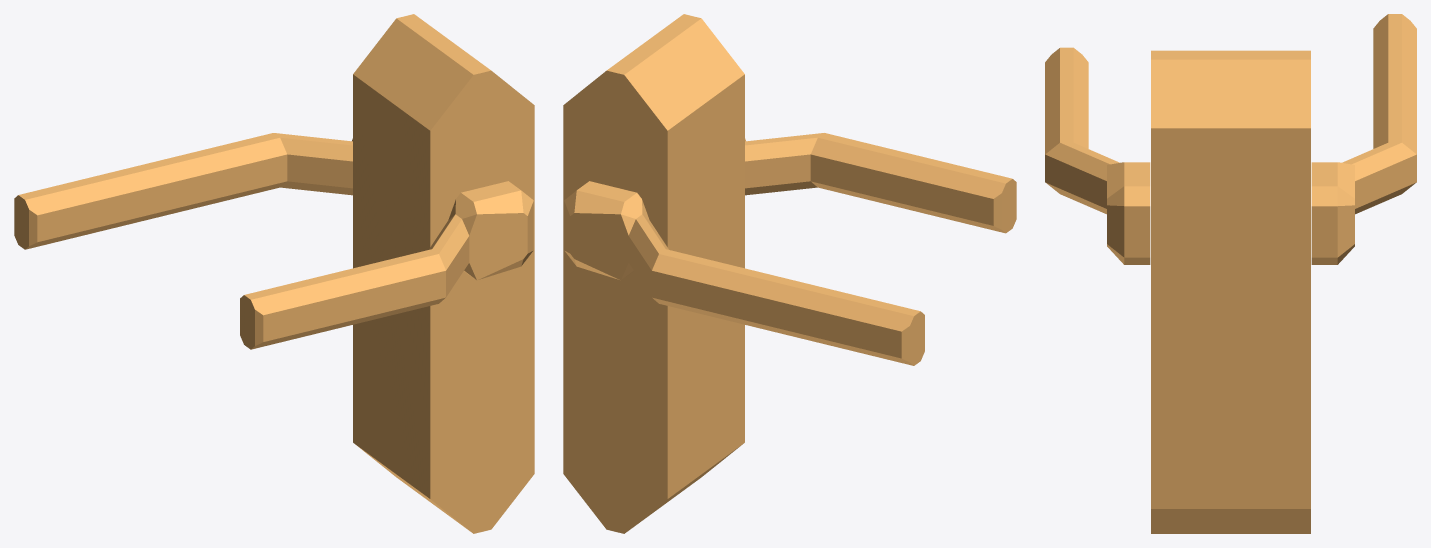
Rendered from doorknob.glb.
3 renders of one model, left to right at view 1: azimuth 30°, elevation 25°; view 2: azimuth 150°, elevation 25°; view 3: azimuth 270°, elevation 25°, orthographic. The views are drawn at different scales.
Visible parts, largest first — view 1: Cube.006_Latch_0, Cube.003_Latch_0, Cube.002_Latch_0; view 2: Cube.006_Latch_0, Cube.002_Latch_0, Cube.003_Latch_0; view 3: Cube.006_Latch_0, Cube.002_Latch_0, Cube.003_Latch_0.
Boxes of the visible parts, left/top/right/bottom form: Cube.006_Latch_0: left=353, top=14, right=534, bottom=533; Cube.003_Latch_0: left=240, top=181, right=533, bottom=349; Cube.002_Latch_0: left=14, top=133, right=352, bottom=249; Cube.006_Latch_0: left=563, top=14, right=744, bottom=533; Cube.002_Latch_0: left=564, top=181, right=924, bottom=365; Cube.003_Latch_0: left=745, top=133, right=1016, bottom=233; Cube.006_Latch_0: left=1151, top=50, right=1310, bottom=533; Cube.002_Latch_0: left=1311, top=14, right=1416, bottom=264; Cube.003_Latch_0: left=1045, top=47, right=1150, bottom=264.
Size of the model in its own units: 0.2073 by 0.2302 by 0.1635.
